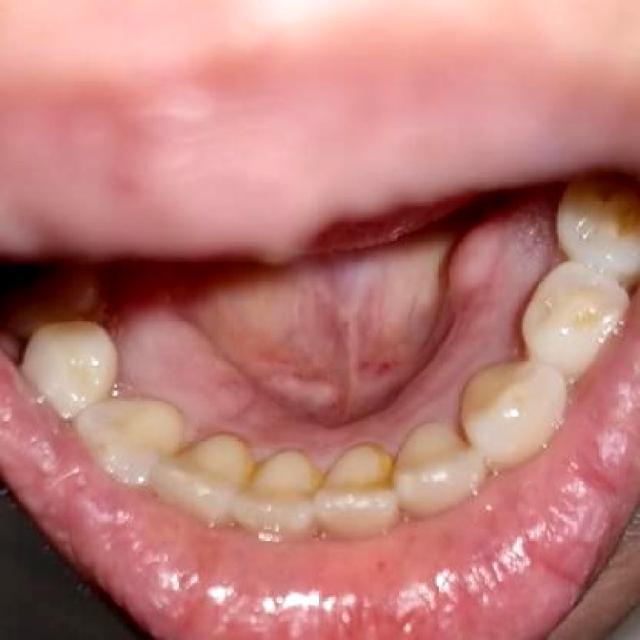Plaque: (182, 399, 442, 468)
